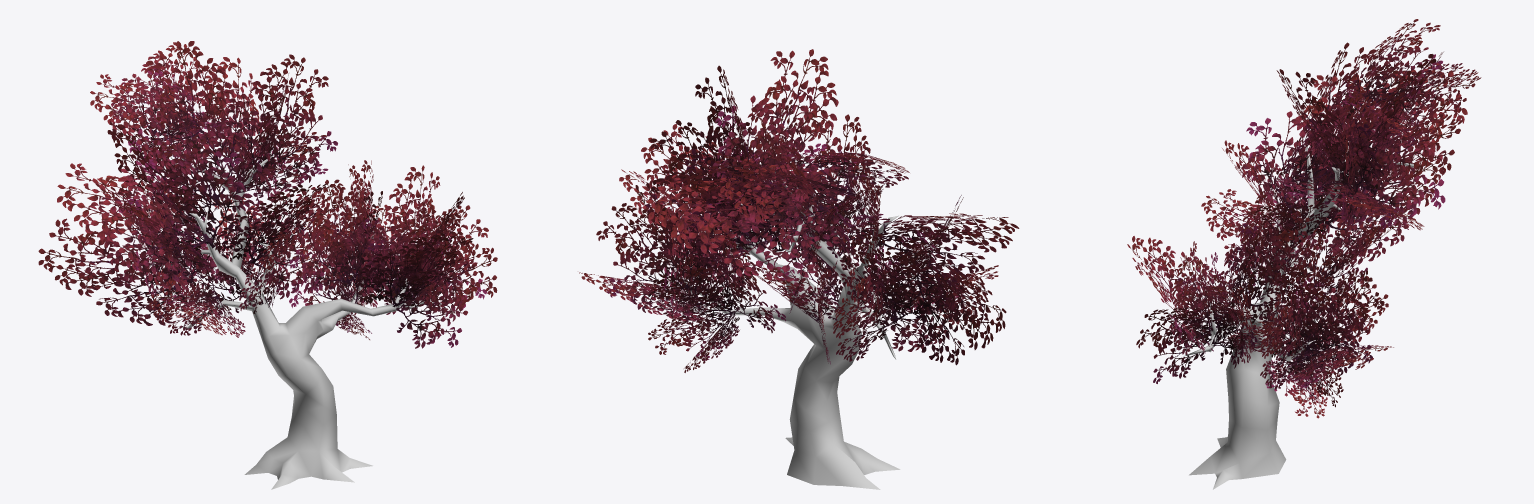
Rendered from SM_EN_2006_shu01.FBX.
3 renders of one model, left to right at view 1: azimuth 30°, elevation 25°; view 2: azimuth 150°, elevation 25°; view 3: azimuth 270°, elevation 25°, orthographic. The views are drawn at different scales.
Parts seen in each view (by area): view 1: SM_EN_2006_shu0102, SM_EN_2006_shu0101; view 2: SM_EN_2006_shu0102, SM_EN_2006_shu0101; view 3: SM_EN_2006_shu0102, SM_EN_2006_shu0101.
Boxes of the visible parts, box(x1,y1,x2,y2) form: SM_EN_2006_shu0102: box(38, 41, 497, 348); SM_EN_2006_shu0101: box(154, 151, 443, 489); SM_EN_2006_shu0102: box(579, 49, 1019, 372); SM_EN_2006_shu0101: box(684, 168, 900, 489); SM_EN_2006_shu0102: box(1127, 19, 1481, 418); SM_EN_2006_shu0101: box(1183, 142, 1429, 489).
Bounding box in the file's own units: 1030 × 890 × 765.
